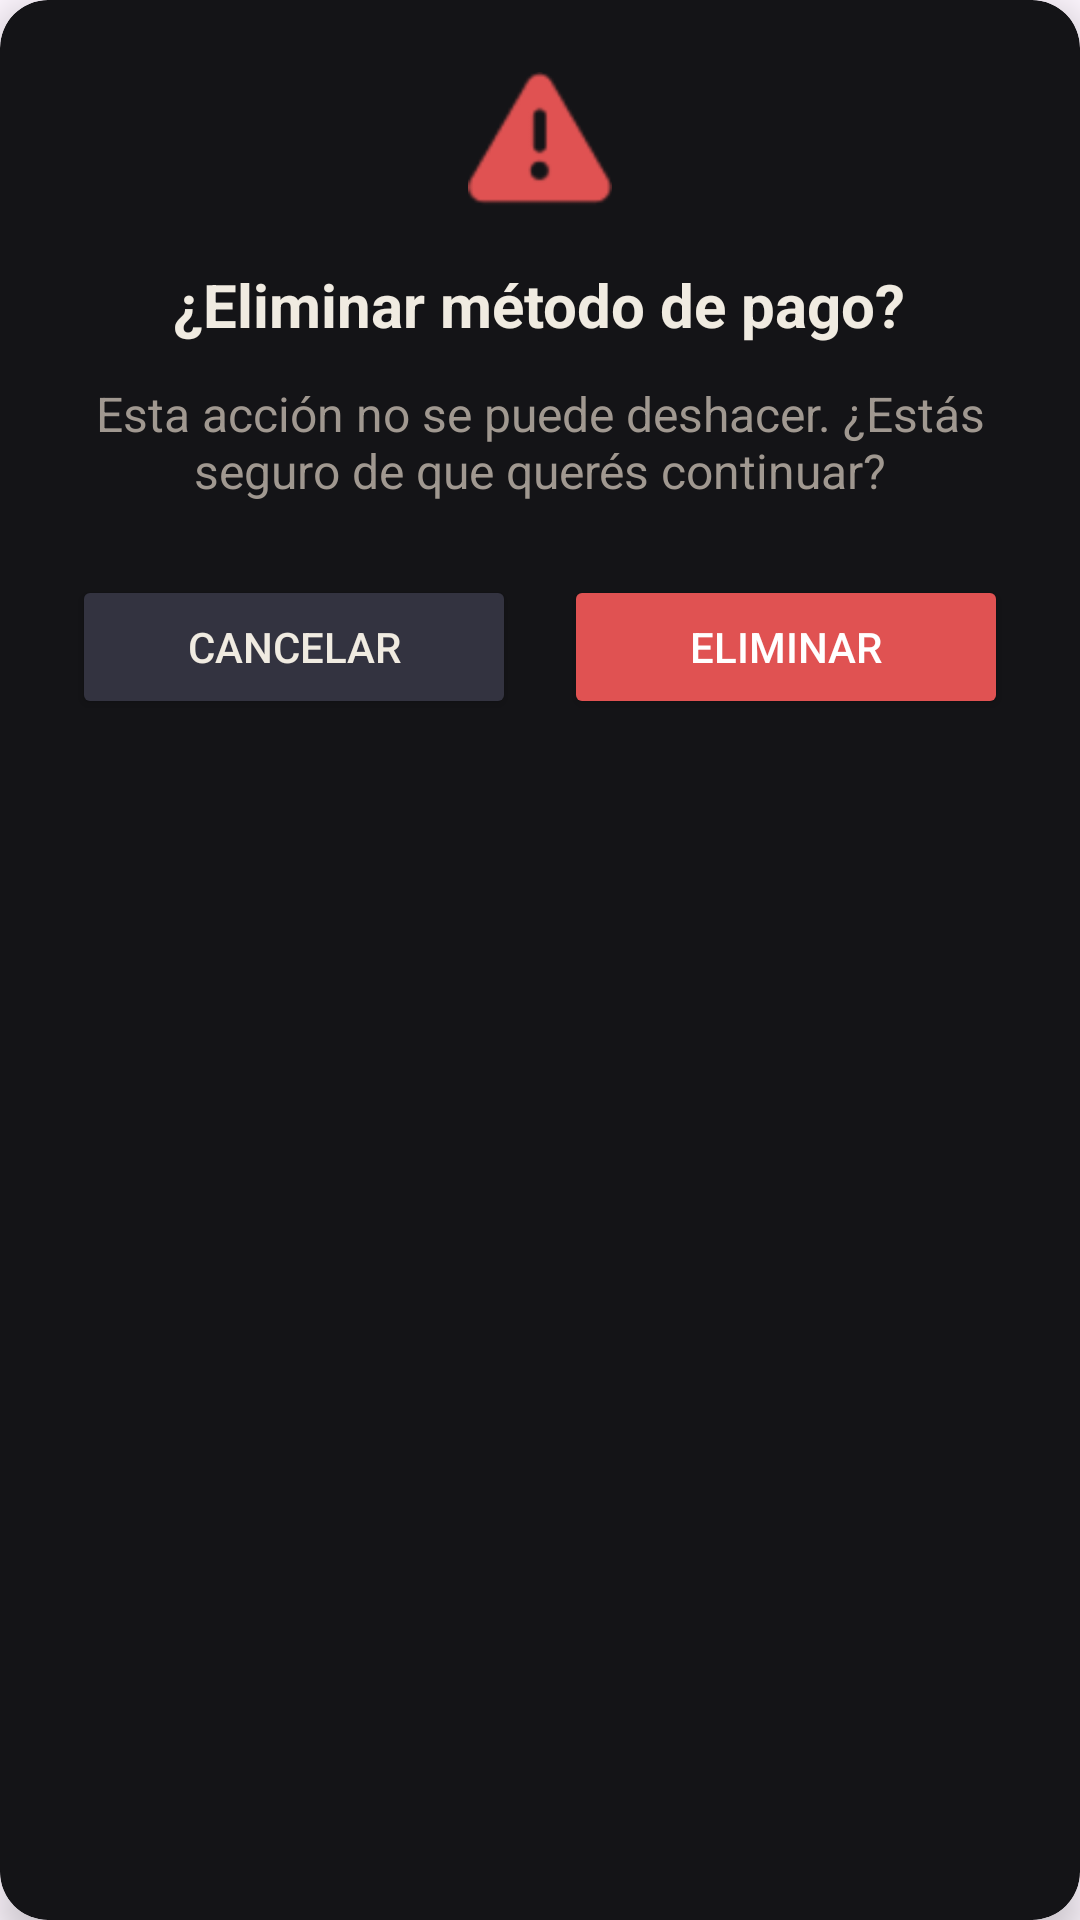

Where icons sit on this 1080px x 1920px app screen, as BBox(x1, y1, x2, y2):
alert: BBox(468, 72, 612, 203)
